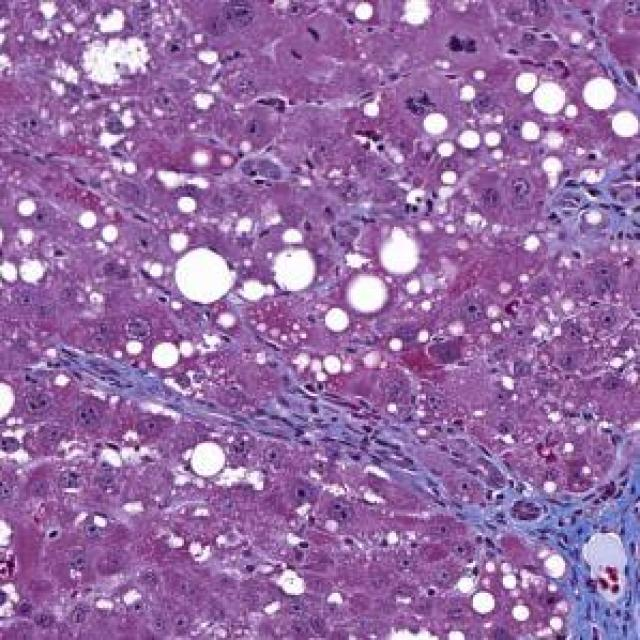fibrosis: (280, 381, 480, 490), (535, 488, 640, 640)
